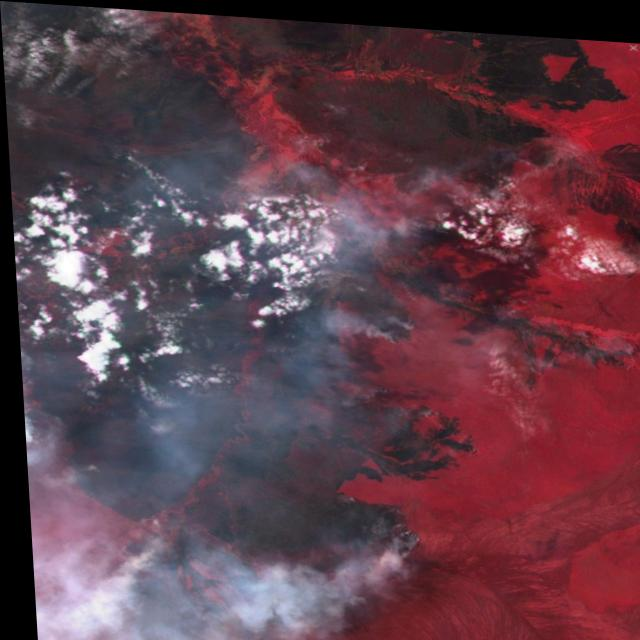fire: (6, 119, 640, 640)
